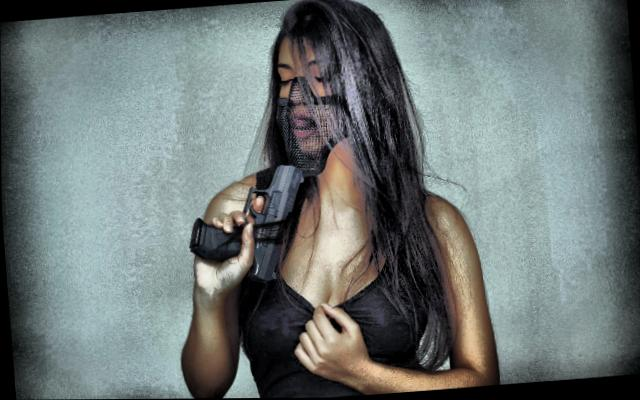pistol: (185, 160, 315, 283)
